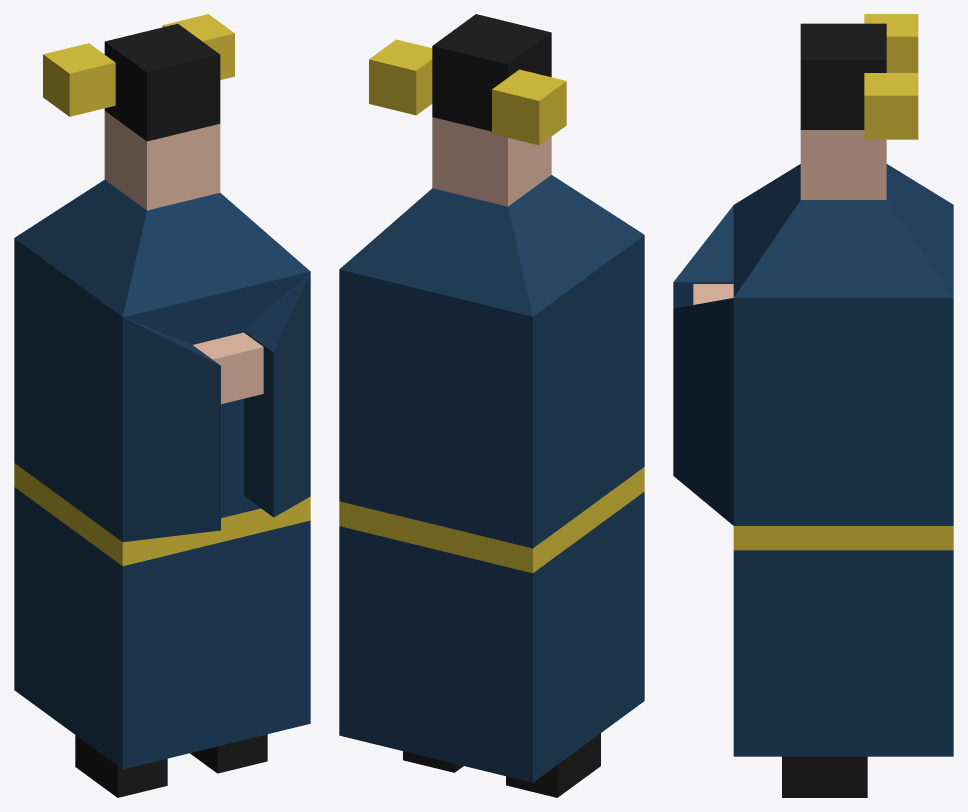
Rendered from Empl_01.fbx.
The picture shows the model from 3 angles, left to right: view 1: azimuth 30°, elevation 25°; view 2: azimuth 150°, elevation 25°; view 3: azimuth 270°, elevation 25°; orthographic projection. The views are drawn at different scales.
Visible parts, largest first — view 1: Empl_01, Empl_01_Head, Empl_01_LegRight, Empl_01_LegLeft; view 2: Empl_01, Empl_01_Head, Empl_01_LegRight, Empl_01_LegLeft; view 3: Empl_01, Empl_01_Head, Empl_01_LegLeft.
Part boxes in pixels (box(x1,y1,x2,y2)): Empl_01: box(14, 179, 310, 769); Empl_01_Head: box(43, 14, 234, 210); Empl_01_LegRight: box(75, 735, 167, 797); Empl_01_LegLeft: box(190, 734, 267, 773); Empl_01: box(339, 175, 644, 782); Empl_01_Head: box(369, 14, 566, 206); Empl_01_LegRight: box(506, 733, 600, 797); Empl_01_LegLeft: box(403, 751, 463, 772); Empl_01: box(673, 164, 953, 756); Empl_01_Head: box(800, 14, 918, 199); Empl_01_LegLeft: box(782, 756, 867, 797).
Bounding box in the file's own units: 0.5522 × 1.99 × 0.7041.
